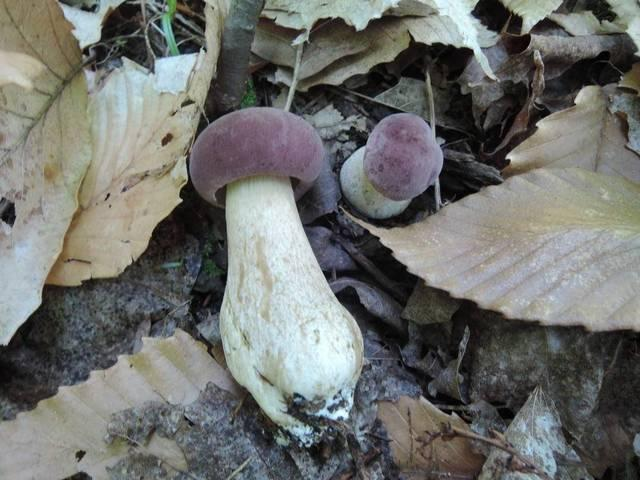poisonous_mushroom: (187, 104, 365, 445), (351, 102, 455, 216)
